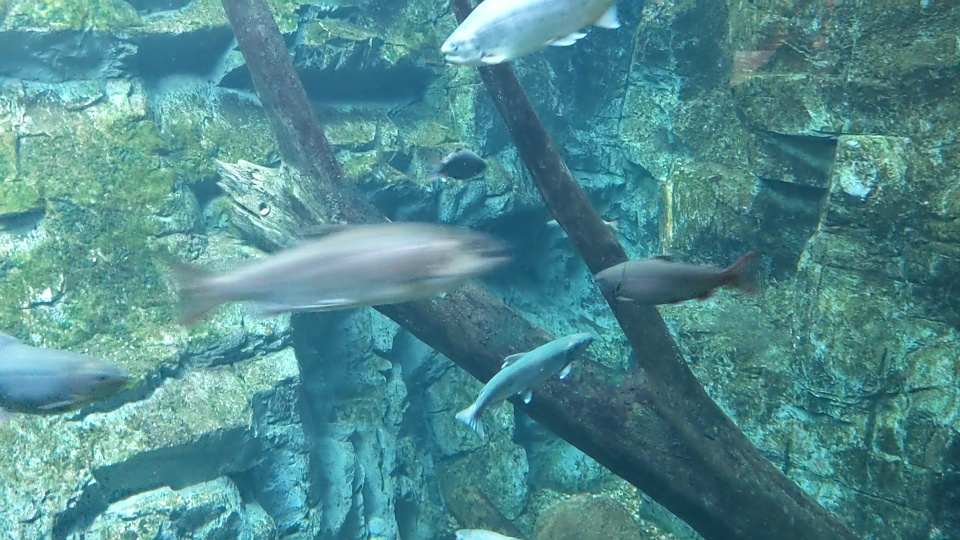Fish: (154, 220, 513, 311), (440, 0, 631, 74), (460, 329, 591, 429), (0, 328, 125, 418), (588, 251, 762, 305), (439, 148, 491, 181)
